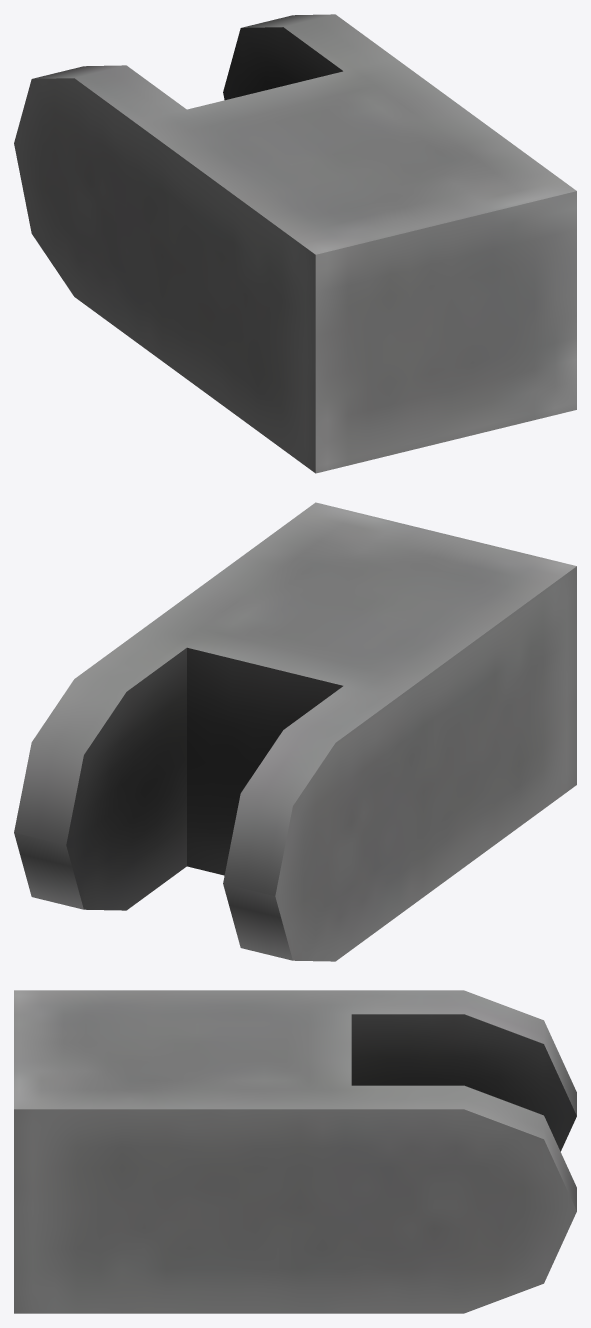
Rendered from 1mv_sensor_magnetometer_srf_1_base.obj.
The picture shows the model from 3 angles, top to bottom: view 1: azimuth 30°, elevation 25°; view 2: azimuth 150°, elevation 25°; view 3: azimuth 270°, elevation 25°; orthographic projection. The views are drawn at different scales.
Parts seen in each view (by area): view 1: mesh1; view 2: mesh1; view 3: mesh1.
Boxes of the visible parts, x1=… form: mesh1: x1=14, y1=14, x2=576, y2=473; mesh1: x1=14, y1=502, x2=576, y2=961; mesh1: x1=14, y1=990, x2=576, y2=1313.
Bounding box in the file's own units: 0.0625 × 0.05 × 0.125.
1 material, 1 textured.
